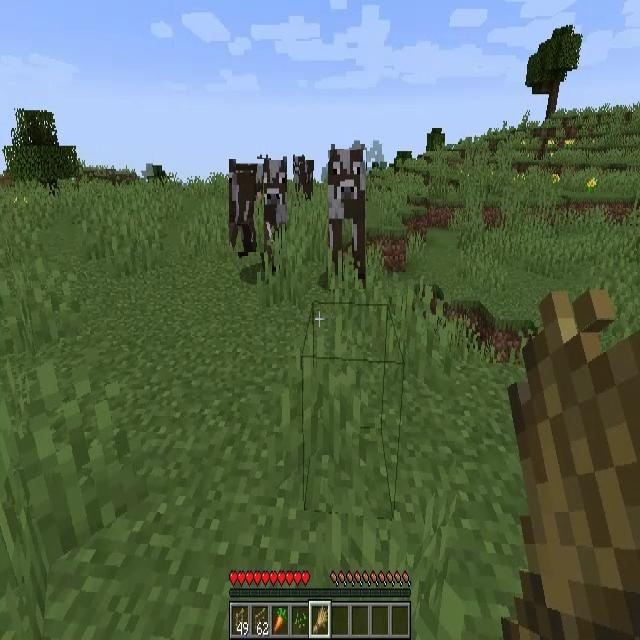cow: (234, 160, 286, 274), (328, 150, 366, 289), (229, 159, 264, 252), (293, 152, 314, 202)
